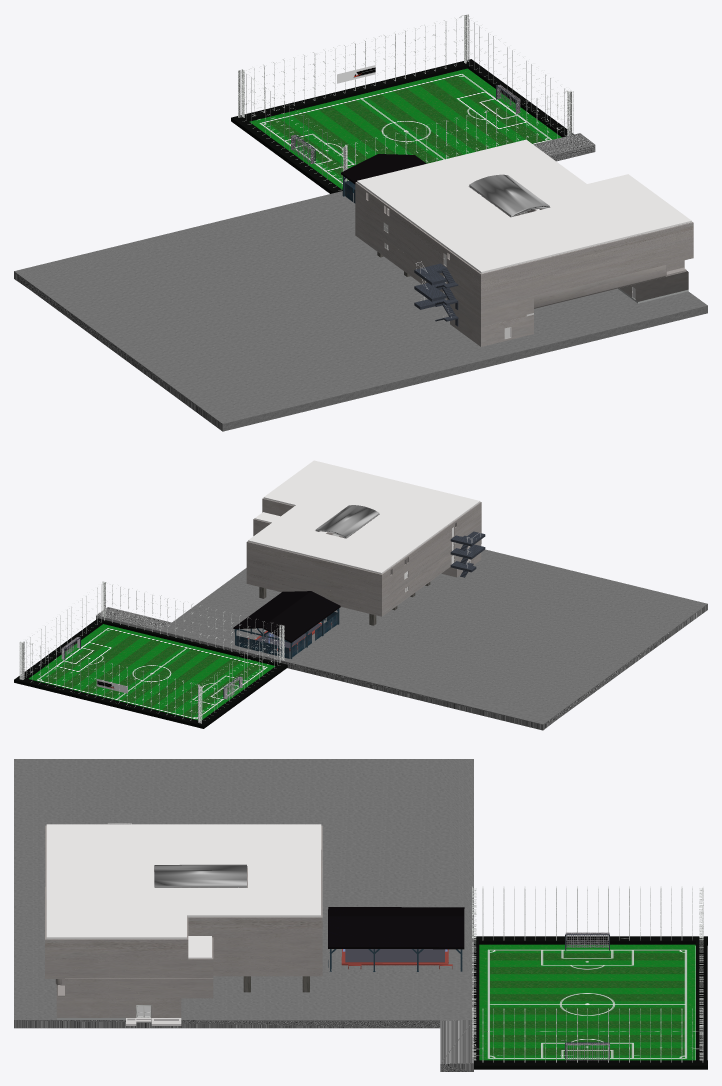
Rendered from posgrado_.glb.
3 renders of one model, top to bottom at view 1: azimuth 30°, elevation 25°; view 2: azimuth 150°, elevation 25°; view 3: azimuth 270°, elevation 25°, orthographic. The views are drawn at different scales.
Parts seen in each view (by area): view 1: Concreto_Posgrado, Cube.002_Cube.100, PisoPos_P01, Plane_Plane.001, Escaleras-Ext; view 2: Concreto_Posgrado, Cube.002_Cube.100, Plane_Plane.001, PisoPos_P01, AAA-Etancon axe rouge_001, Escaleras-Ext; view 3: Concreto_Posgrado, Cube.002_Cube.100, Plane_Plane.001, PisoPos_P01.
Boxes of the visible parts, x1,y1,x2,y2 form: Concreto_Posgrado: (14, 133, 707, 431); Cube.002_Cube.100: (231, 14, 691, 338); PisoPos_P01: (355, 182, 693, 346); Plane_Plane.001: (249, 68, 561, 189); Escaleras-Ext: (414, 263, 458, 326); Concreto_Posgrado: (96, 549, 707, 730); Cube.002_Cube.100: (14, 460, 480, 728); Plane_Plane.001: (28, 624, 275, 720); PisoPos_P01: (246, 498, 481, 616); AAA-Etancon axe rouge_001: (234, 608, 339, 658); Escaleras-Ext: (450, 531, 485, 577); Concreto_Posgrado: (14, 759, 473, 1071); Cube.002_Cube.100: (46, 823, 707, 1069); Plane_Plane.001: (479, 944, 695, 1060); PisoPos_P01: (45, 825, 322, 1017).
Bounding box in the file's own units: 1 × 0.1479 × 0.9674.
11 materials, 11 textured.
